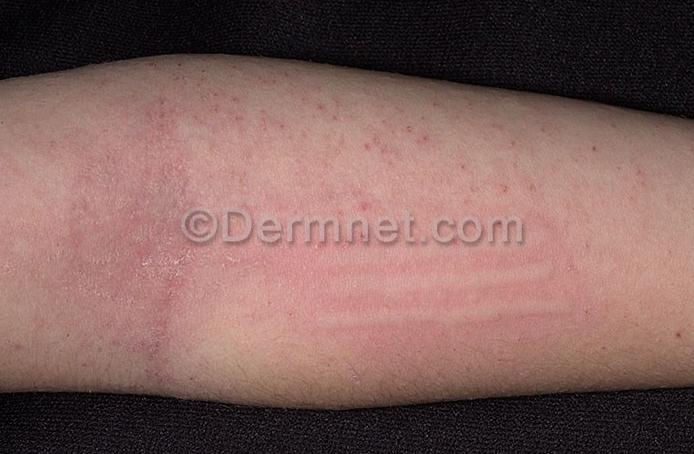eritema 1: (60, 134, 595, 343)
exudacion 1: (127, 71, 669, 222)
